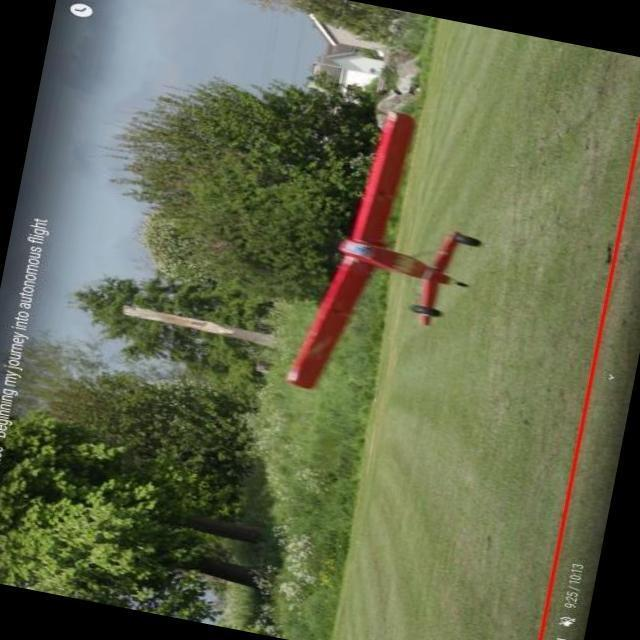iha: (260, 100, 512, 412)
